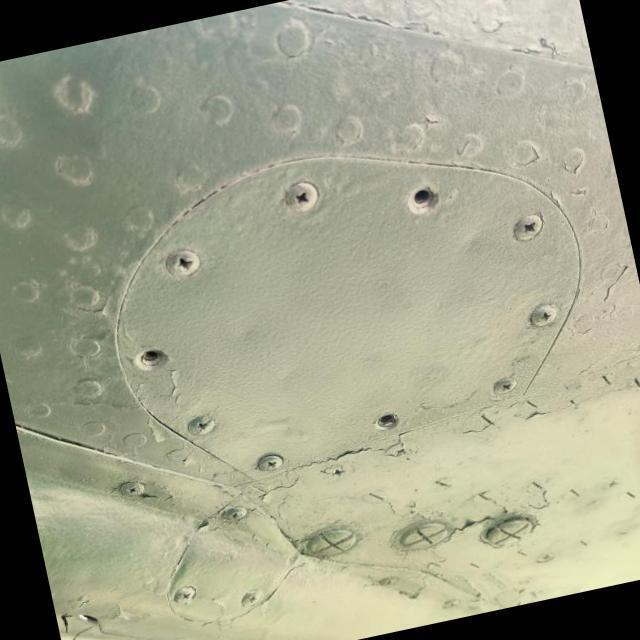Fastener Damage: (102, 316, 188, 404), (384, 158, 464, 239), (345, 384, 422, 460)
